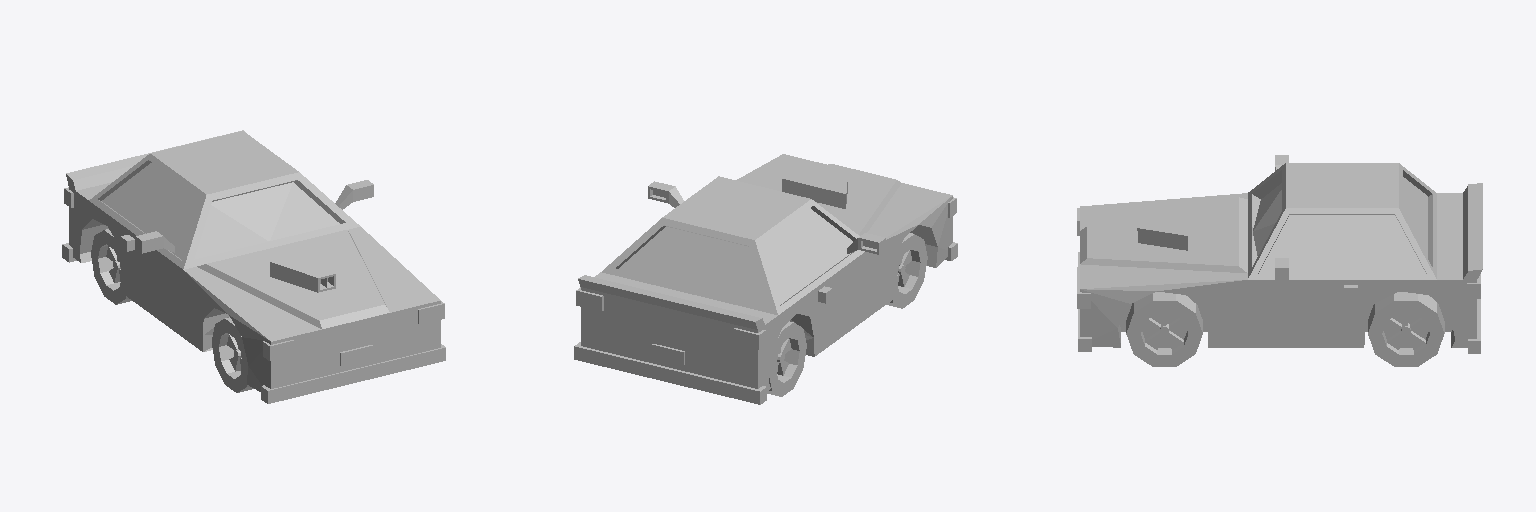
The model's file is muscle-car.obj.
The picture shows the model from 3 angles: view 1: azimuth 30°, elevation 25°; view 2: azimuth 150°, elevation 25°; view 3: azimuth 270°, elevation 25°; orthographic projection.
Size of the model in its own units: 2.7 by 1.57 by 4.09.